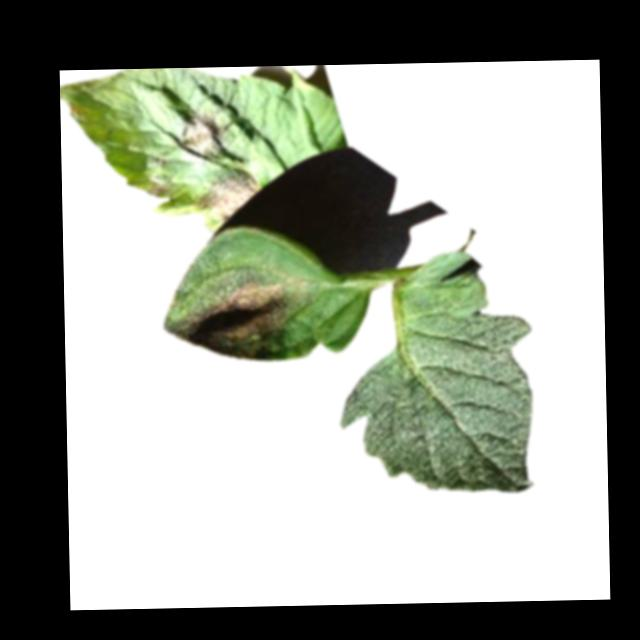Late_blight: (166, 282, 289, 361), (196, 166, 261, 221), (171, 111, 231, 161), (147, 179, 169, 201), (68, 101, 88, 121)
healthy: (335, 247, 535, 496)
